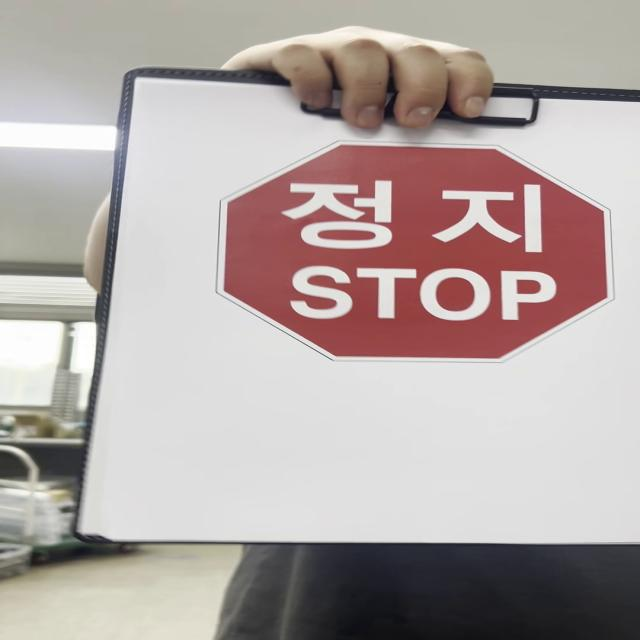stop: (218, 142, 612, 375)
